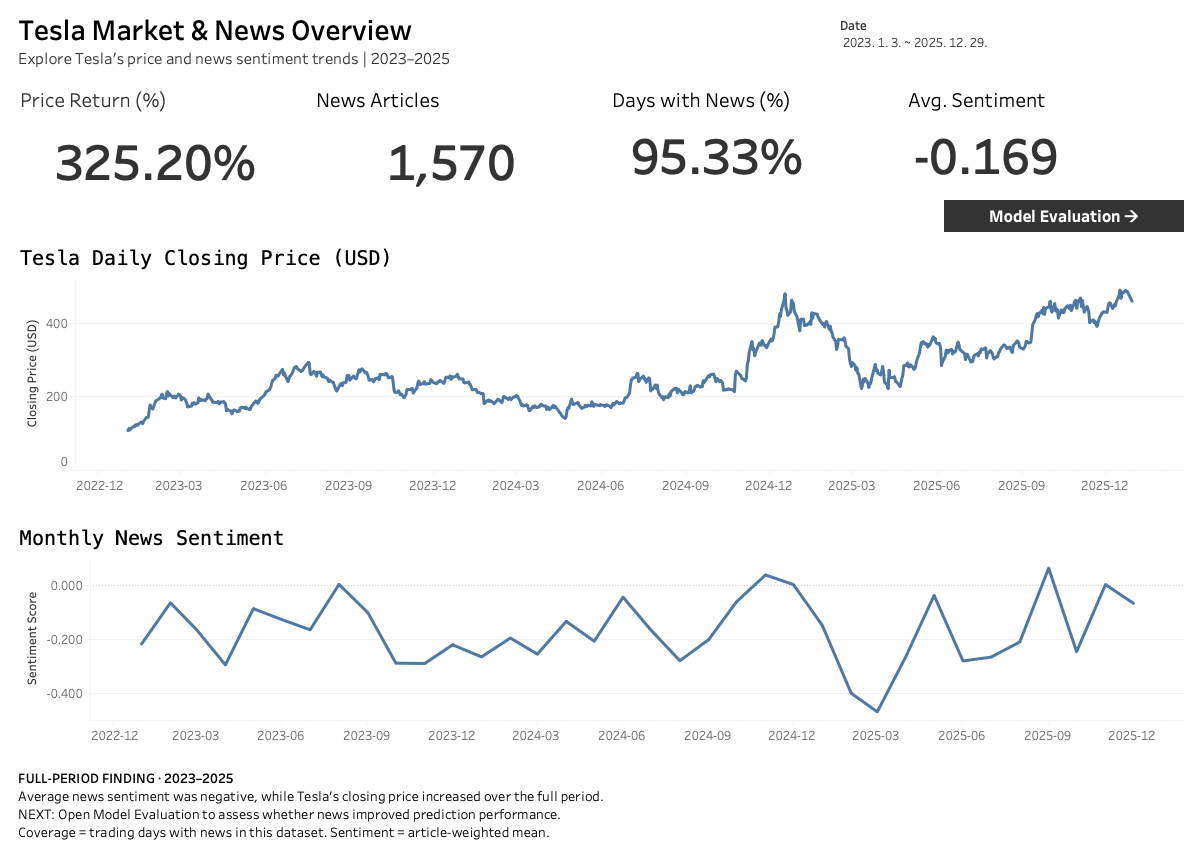

The dashboard page shown, as its layout file describes it:
{"tool":"tableau","page":{"name":"Market & News Overview","canvas":[1200,850],"ordinal":0},"visuals":[{"type":"text","box":[16,8,800,64]},{"type":"filter","title":"06_Monthly Sentiment","param":"[federated.1xib60x0j757h51ewvmiq1d6hwvf].[none:Date:qk]","box":[840,16,344,60]},{"type":"worksheet","title":"08_Period Return","mark":"Automatic","rows":["Date"],"box":[16,80,280,120]},{"type":"worksheet","title":"03_News Articles","mark":"Text","box":[312,80,280,120]},{"type":"worksheet","title":"04_News Coverage","mark":"Text","box":[608,80,280,120]},{"type":"worksheet","title":"05_Avg Sentiment","mark":"Text","box":[904,80,280,120]},{"type":"dashboard-object","box":[944,200,240,32]},{"type":"worksheet","title":"01_주가추","mark":"Automatic","rows":["Close"],"cols":["Date"],"box":[16,240,1168,260]},{"type":"worksheet","title":"06_Monthly Sentiment","mark":"Automatic","rows":["Calculation_1240096906326017"],"cols":["Date"],"box":[16,520,1168,230]},{"type":"text","box":[16,760,1168,90]}]}

Visuals, with their boxes in screenshot pixels (x1, y1, x2, y2), scaled from the page's 1200x850 canvas onto the 1200x850 screenshot:
text: pyautogui.locateOnScreen(16, 8, 816, 72)
"06_Monthly Sentiment" filter: pyautogui.locateOnScreen(840, 16, 1184, 76)
"08_Period Return" worksheet: pyautogui.locateOnScreen(16, 80, 296, 200)
"03_News Articles" worksheet (Text marks): pyautogui.locateOnScreen(312, 80, 592, 200)
"04_News Coverage" worksheet (Text marks): pyautogui.locateOnScreen(608, 80, 888, 200)
"05_Avg Sentiment" worksheet (Text marks): pyautogui.locateOnScreen(904, 80, 1184, 200)
dashboard-object: pyautogui.locateOnScreen(944, 200, 1184, 232)
"01_주가추" worksheet: pyautogui.locateOnScreen(16, 240, 1184, 500)
"06_Monthly Sentiment" worksheet: pyautogui.locateOnScreen(16, 520, 1184, 750)
text: pyautogui.locateOnScreen(16, 760, 1184, 849)
